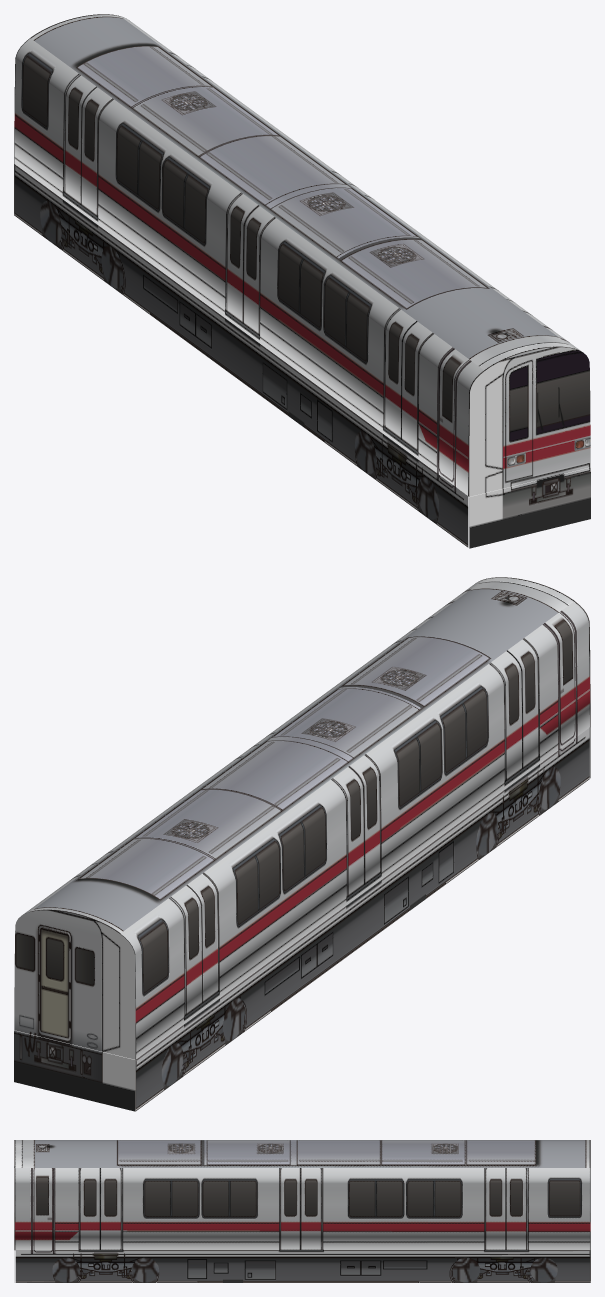
File: car1.glb
3 renders of one model, top to bottom at view 1: azimuth 30°, elevation 25°; view 2: azimuth 150°, elevation 25°; view 3: azimuth 270°, elevation 25°, orthographic. The views are drawn at different scales.
Visible parts, largest first — view 1: tobu-20000-car1; view 2: tobu-20000-car1; view 3: tobu-20000-car1.
Boxes of the visible parts, x1,y1,x2,y2 form: tobu-20000-car1: (14, 14, 590, 548); tobu-20000-car1: (14, 577, 590, 1111); tobu-20000-car1: (14, 1140, 590, 1282).
Size of the model in its own units: 2.78 by 3.99 by 18.03.
9 materials, 8 textured.
